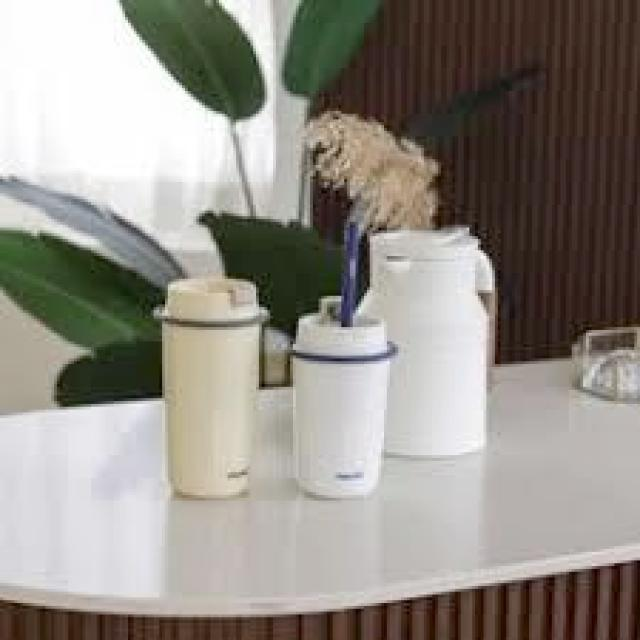bottle: (151, 273, 276, 495), (283, 294, 405, 502)
